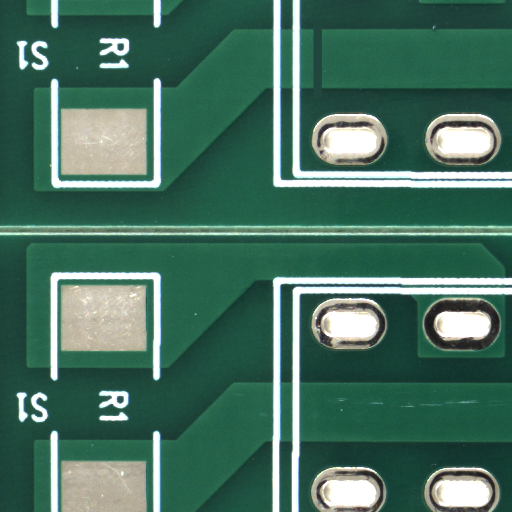Open_circuit: (317, 58, 328, 124)
